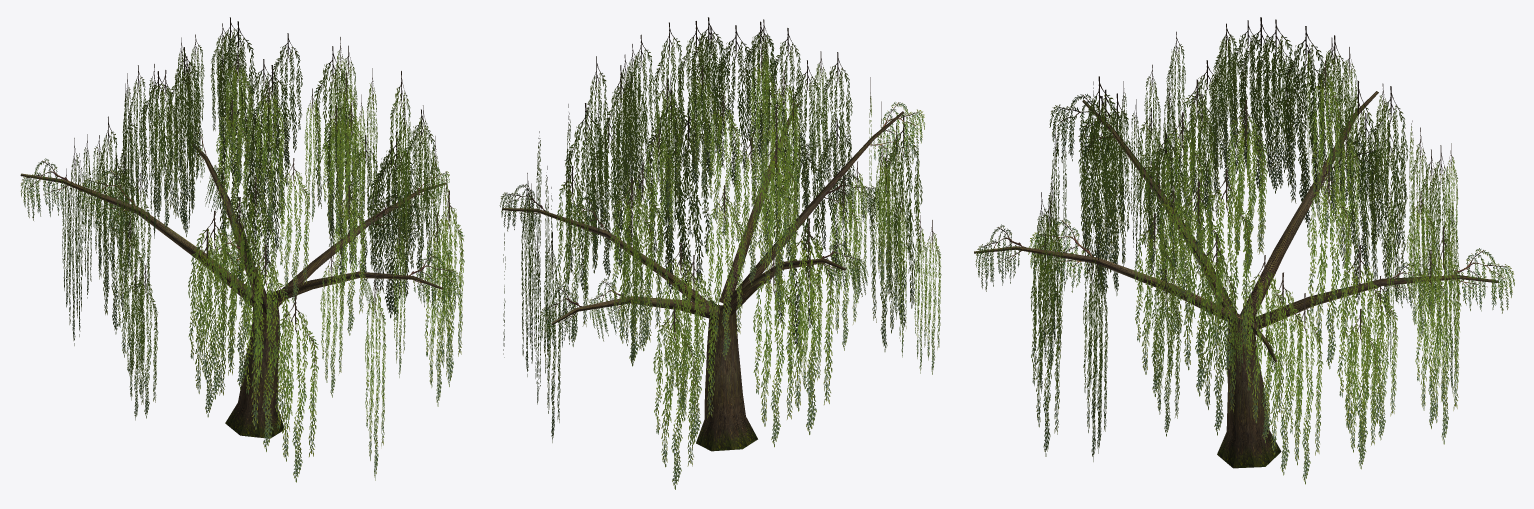
File: willow03_lod1.glb
The picture shows the model from 3 angles, left to right: view 1: azimuth 30°, elevation 25°; view 2: azimuth 150°, elevation 25°; view 3: azimuth 270°, elevation 25°; orthographic projection. The views are drawn at different scales.
Visible parts, largest first — view 1: willow03_lod1; view 2: willow03_lod1; view 3: willow03_lod1.
Part boxes in pixels (x1,y1,x2,y2): willow03_lod1: (20, 17, 464, 482); willow03_lod1: (499, 17, 941, 489); willow03_lod1: (974, 17, 1514, 484).
Size of the model in its own units: 86.67 by 80.99 by 96.06.
3 materials, 3 textured.
